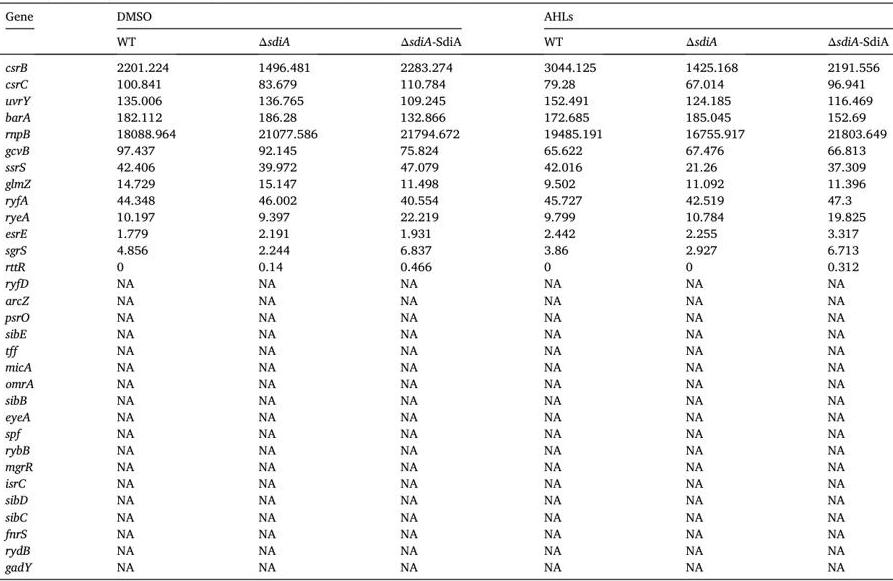table: (4, 4, 888, 575)
table column: (358, 4, 502, 575), (74, 4, 216, 575), (216, 4, 358, 575), (643, 4, 785, 575), (502, 4, 643, 575), (785, 4, 888, 575), (4, 4, 74, 575)
table column header: (4, 4, 888, 53)
table row: (4, 27, 888, 53), (4, 4, 888, 27), (4, 53, 888, 74), (4, 557, 888, 575), (4, 74, 888, 91), (4, 107, 888, 124), (4, 124, 888, 141), (4, 157, 888, 174), (4, 174, 888, 191), (4, 207, 888, 224), (4, 224, 888, 241), (4, 257, 888, 274), (4, 290, 888, 307), (4, 307, 888, 324), (4, 324, 888, 341), (4, 357, 888, 374), (4, 390, 888, 407), (4, 407, 888, 424), (4, 440, 888, 457), (4, 457, 888, 474), (4, 490, 888, 507), (4, 507, 888, 524), (4, 540, 888, 557), (4, 91, 888, 107), (4, 141, 888, 157), (4, 191, 888, 207), (4, 241, 888, 257), (4, 274, 888, 290), (4, 341, 888, 357), (4, 374, 888, 390), (4, 424, 888, 440), (4, 474, 888, 490), (4, 524, 888, 540)
table spanning cell: (74, 4, 502, 27), (502, 4, 888, 27), (4, 4, 74, 53)
